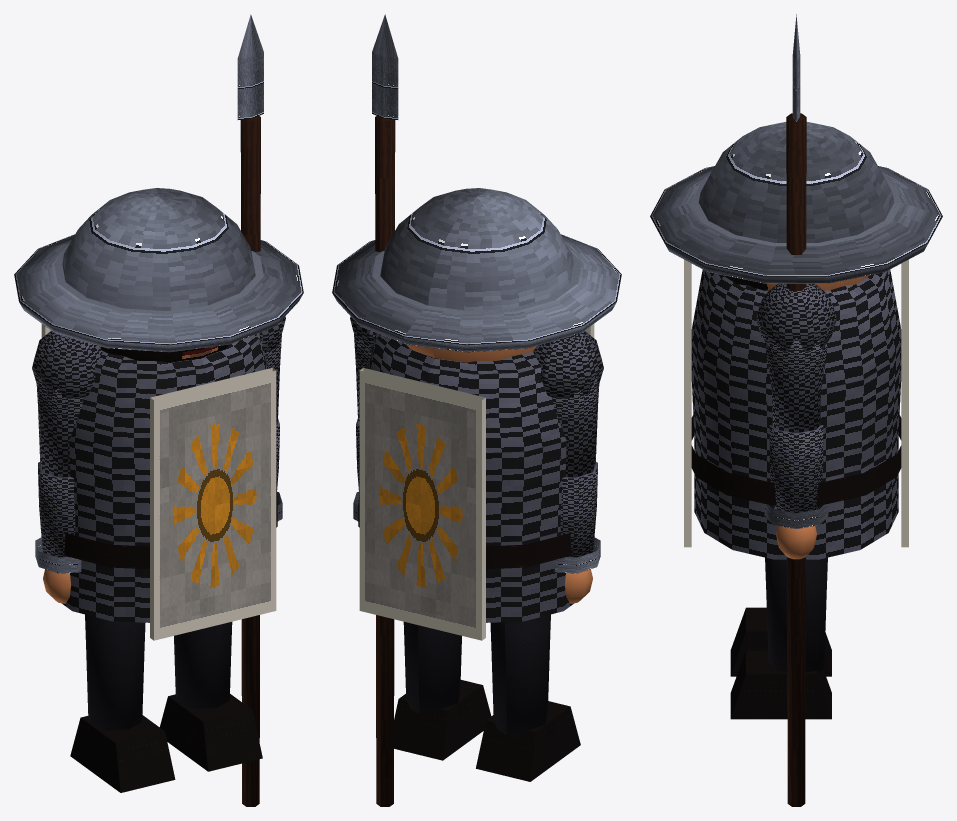
File: npc_wache.glb
The picture shows the model from 3 angles, left to right: view 1: azimuth 30°, elevation 25°; view 2: azimuth 150°, elevation 25°; view 3: azimuth 270°, elevation 25°; orthographic projection.
Visible parts, largest first — view 1: tabardF, mail, helm, helmBrim, leg-1, boot-1, boot1, spear, leg1, shoulder-1, upper-1, fore-1 (+5 smaller); view 2: tabardB, mail, helm, helmBrim, leg-1, spear, boot-1, boot1, leg1, shoulder-1, upper-1, fore-1 (+5 smaller); view 3: mail, helm, helmBrim, spear, leg1, boot1, upper1, shoulder1, belt, fore1, tabardB, tabardF (+5 smaller).
Part boxes in pixels (<box>): tabardF: <box>150,368,276,640</box>; mail: <box>62,333,268,622</box>; helm: <box>62,188,255,310</box>; helmBrim: <box>14,234,303,352</box>; leg-1: <box>85,614,145,730</box>; boot-1: <box>70,715,175,792</box>; boot1: <box>159,694,262,771</box>; spear: <box>240,116,260,806</box>; leg1: <box>174,622,232,708</box>; shoulder-1: <box>32,330,102,398</box>; upper-1: <box>36,375,83,477</box>; fore-1: <box>38,462,75,557</box>; tabardB: <box>359,368,485,640</box>; mail: <box>367,333,573,622</box>; helm: <box>380,188,573,310</box>; helmBrim: <box>332,234,621,352</box>; leg-1: <box>490,614,550,735</box>; spear: <box>375,116,395,806</box>; boot-1: <box>476,701,580,781</box>; boot1: <box>388,680,491,760</box>; leg1: <box>403,622,461,714</box>; shoulder-1: <box>533,330,603,398</box>; upper-1: <box>552,375,599,477</box>; fore-1: <box>560,462,597,557</box>; mail: <box>691,269,901,559</box>; helm: <box>698,122,894,242</box>; helmBrim: <box>650,166,942,283</box>; spear: <box>786,113,806,806</box>; leg1: <box>765,557,827,673</box>; boot1: <box>730,650,831,719</box>; upper1: <box>765,337,827,433</box>; shoulder1: <box>756,283,836,351</box>; belt: <box>691,415,901,505</box>; fore1: <box>769,425,823,512</box>; tabardB: <box>901,259,908,547</box>; tabardF: <box>684,259,691,547</box>.
Size of the model in its own units: 1.13 by 3.45 by 1.16.
Materials: 9 (9 with a texture image).
